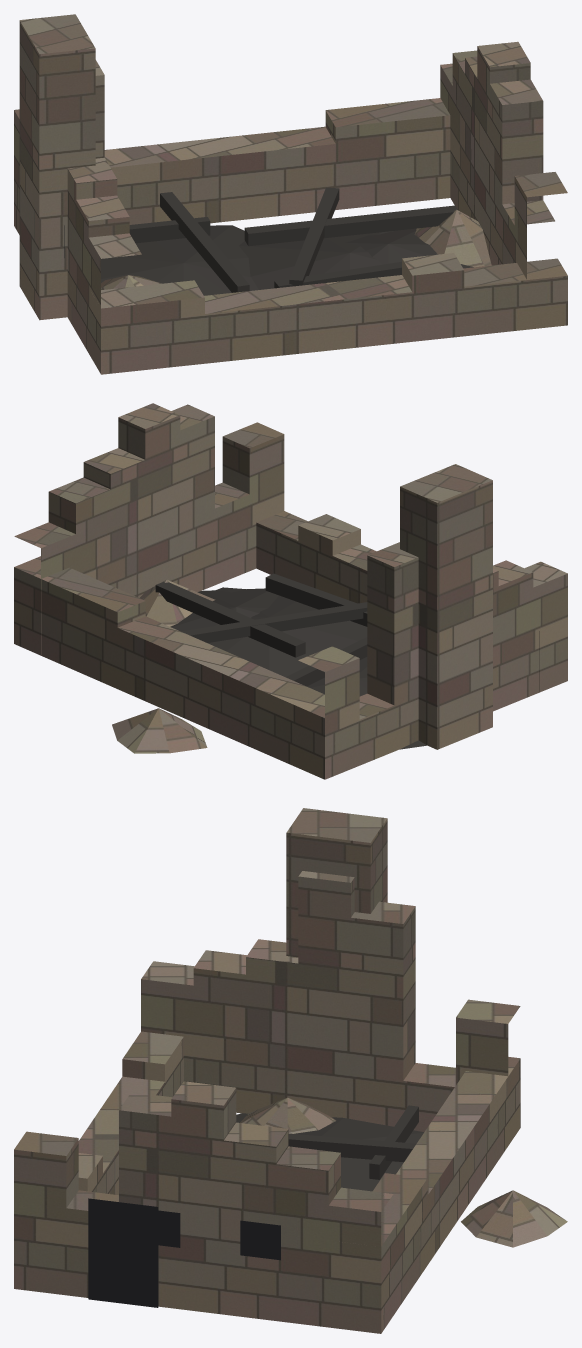
The picture shows the model from 3 angles, top to bottom: view 1: azimuth 30°, elevation 25°; view 2: azimuth 150°, elevation 25°; view 3: azimuth 270°, elevation 25°; orthographic projection. The views are drawn at different scales.
Visible parts, largest first — view 1: b001086_ruin_wall, b001086_ruin_char; view 2: b001086_ruin_wall, b001086_ruin_char; view 3: b001086_ruin_wall, b001086_ruin_glass, b001086_ruin_char.
Part boxes in pixels (bbox=[...]): b001086_ruin_wall: bbox=[14, 14, 567, 374]; b001086_ruin_char: bbox=[101, 187, 473, 295]; b001086_ruin_wall: bbox=[14, 403, 567, 779]; b001086_ruin_char: bbox=[155, 573, 426, 749]; b001086_ruin_wall: bbox=[14, 808, 567, 1333]; b001086_ruin_glass: bbox=[88, 1198, 280, 1307]; b001086_ruin_char: bbox=[236, 1105, 423, 1191].
Size of the model in its own units: 7.72 by 4.02 by 7.21.
3 materials, 1 textured.
